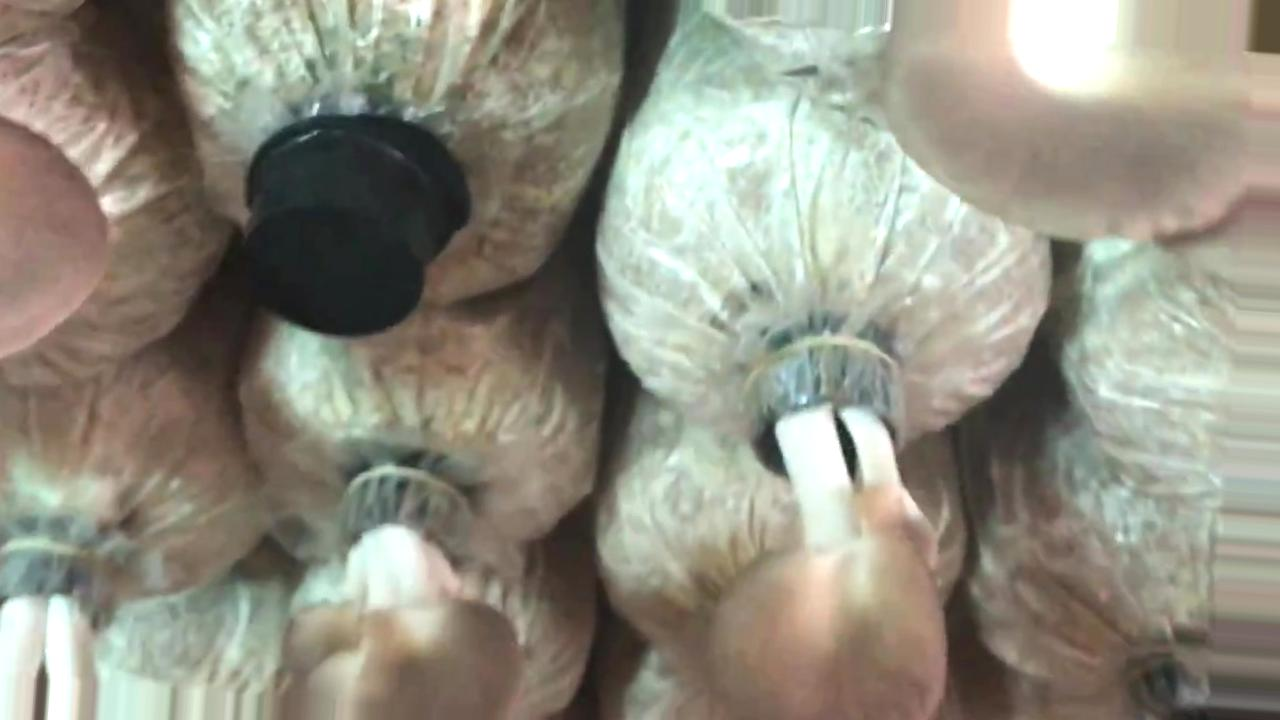nam: (711, 339, 948, 720), (878, 1, 1251, 241), (283, 474, 518, 720), (1, 124, 109, 357)
